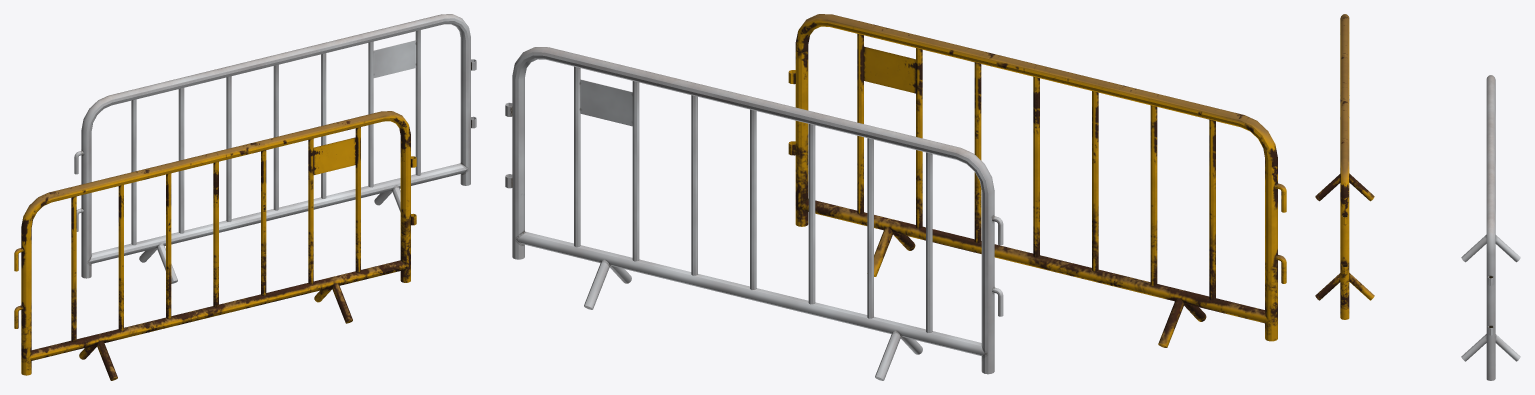
The model's file is crowd_control_barrier__metallic_rusty_old__fence_1749073619958.glb.
The picture shows the model from 3 angles, left to right: view 1: azimuth 30°, elevation 25°; view 2: azimuth 150°, elevation 25°; view 3: azimuth 270°, elevation 25°; orthographic projection. The views are drawn at different scales.
Visible parts, largest first — view 1: Body_J_Yellow, Body_J_White; view 2: Body_J_White, Body_J_Yellow; view 3: Body_J_White, Body_J_Yellow.
Boxes of the visible parts, <box> form: Body_J_Yellow: <box>14,111,416,380</box>; Body_J_White: <box>74,14,476,283</box>; Body_J_White: <box>505,47,1003,380</box>; Body_J_Yellow: <box>788,14,1286,347</box>; Body_J_White: <box>1461,75,1520,380</box>; Body_J_Yellow: <box>1315,14,1374,319</box>.
Size of the model in its own units: 3.4 by 1.12 by 1.28.
Materials: 2 (2 with a texture image).
